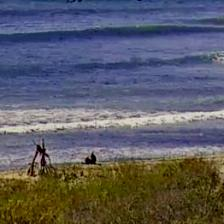surfer: (67, 0, 77, 5), (78, 0, 85, 4), (136, 0, 143, 3)
